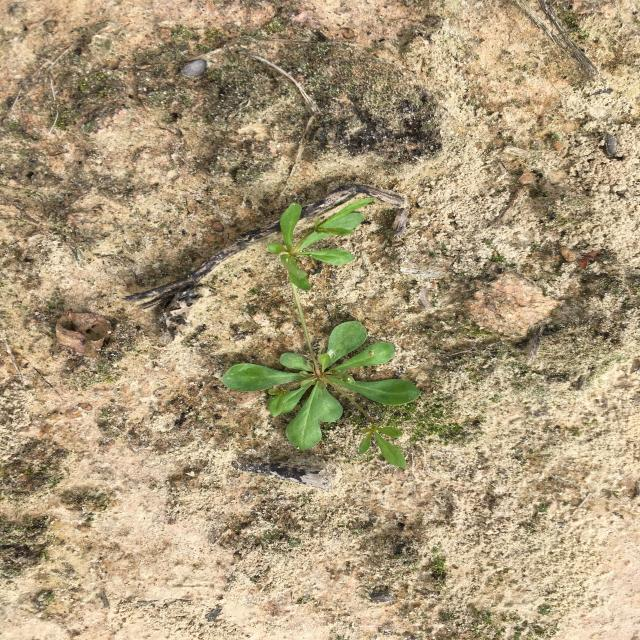Carpetweed: (222, 198, 422, 469)
